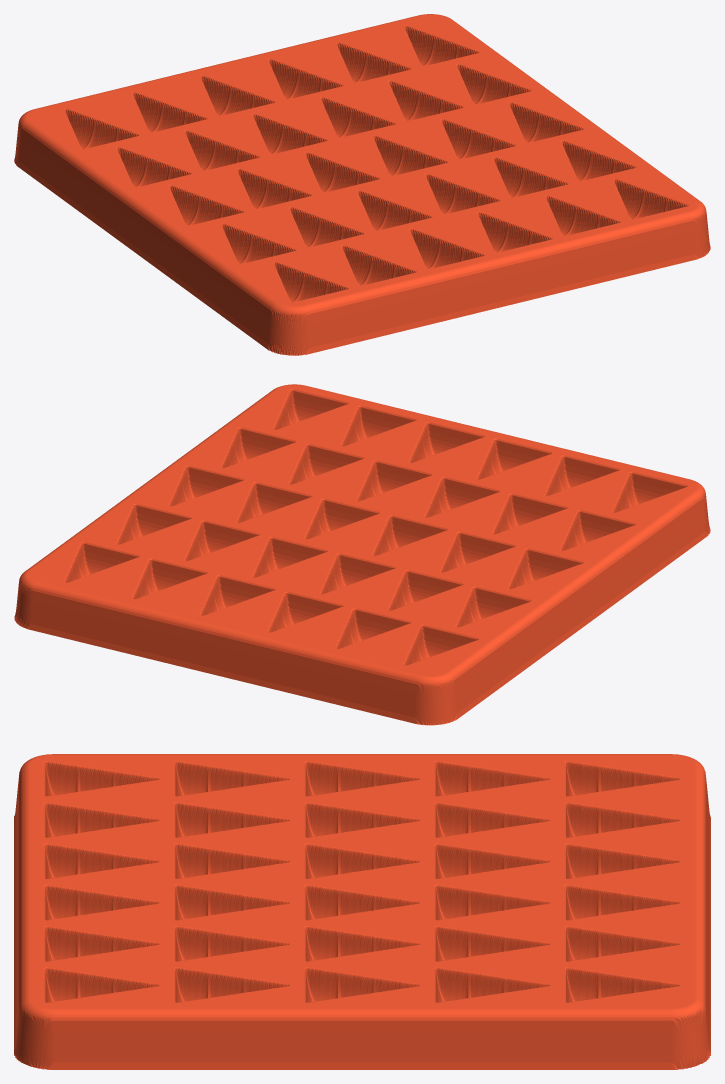
Rendered from mold.glb.
3 views of the same model, one above another, from view 1: azimuth 30°, elevation 25°; view 2: azimuth 150°, elevation 25°; view 3: azimuth 270°, elevation 25° (orthographic). The views are drawn at different scales.
Parts seen in each view (by area): view 1: geometry_0; view 2: geometry_0; view 3: geometry_0.
Boxes of the visible parts, bbox=[...] form: geometry_0: bbox=[14, 14, 710, 355]; geometry_0: bbox=[14, 384, 710, 725]; geometry_0: bbox=[14, 754, 710, 1069].
Bounding box in the file's own units: 0.1434 × 0.0136 × 0.1581.
